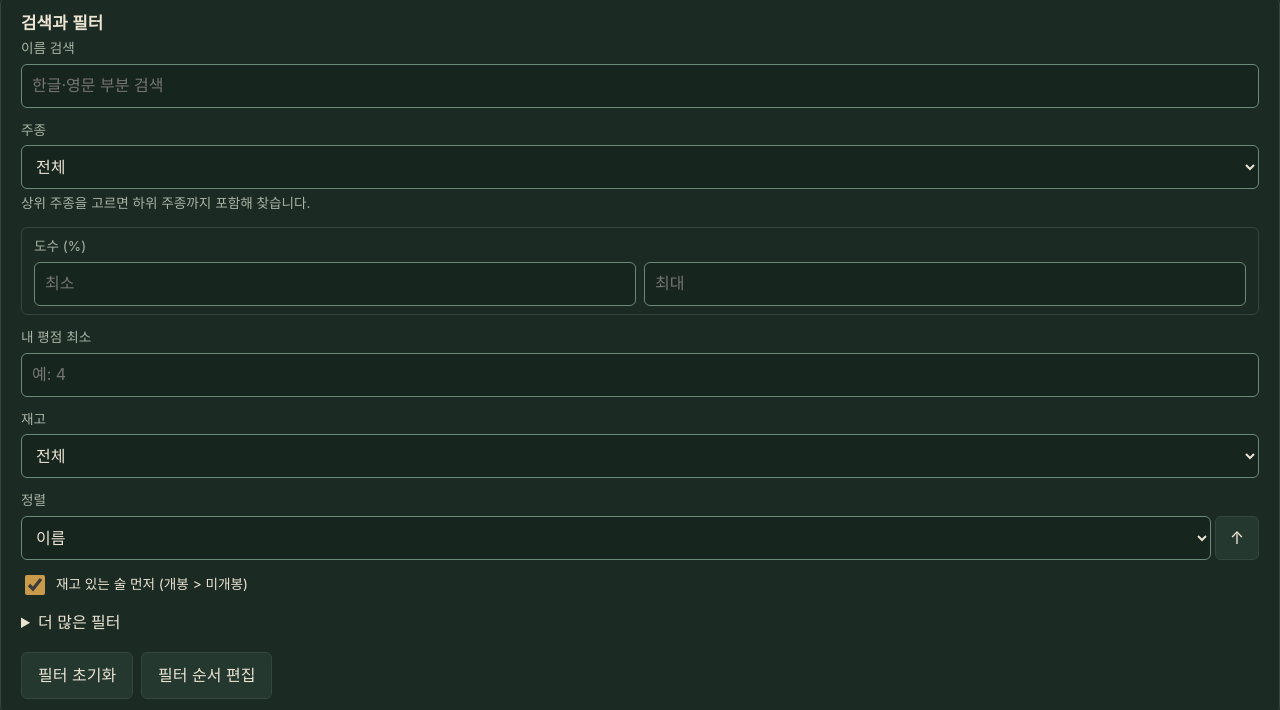
Test case: ProductFilterPanel › 맨 위 항목은 위로 이동이, 맨 아래 항목은 아래로 이동이 비활성화된다
Click the button "필터 순서 편집": (207, 676) [141,652,272,699]
(page scrolled)
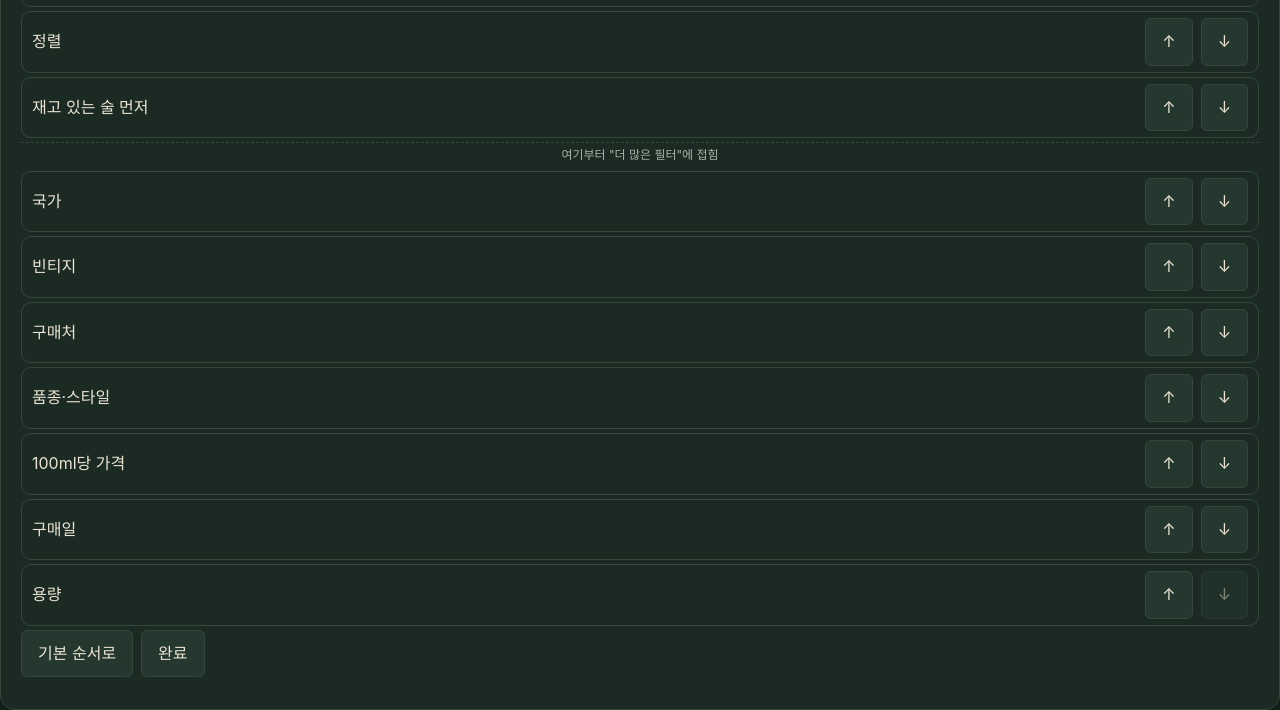
Check: the button named "용량 아래로 이동" is disabled, box [1201,571,1248,619]
